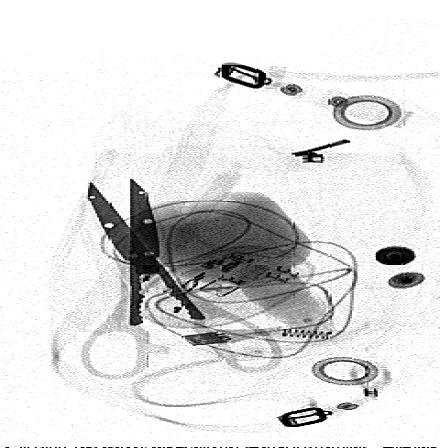Scissors: (76, 173, 287, 381)
